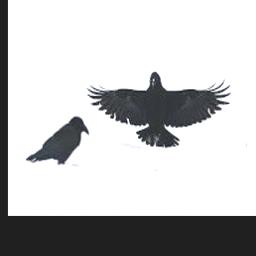Crow: (87, 71, 232, 148), (26, 115, 89, 164)
